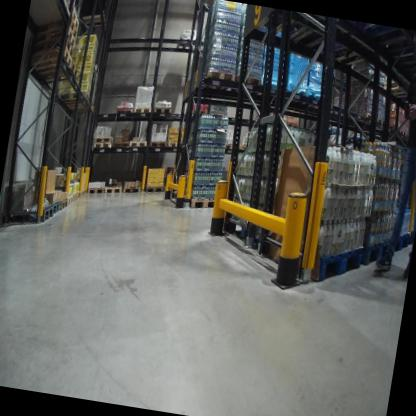pallet: (244, 222, 369, 291), (347, 227, 398, 277), (0, 196, 55, 230), (169, 183, 224, 216), (27, 11, 79, 43), (30, 19, 78, 53), (28, 44, 74, 79), (223, 207, 258, 252), (39, 56, 79, 94), (196, 63, 238, 93), (79, 5, 114, 38), (382, 73, 416, 105), (31, 31, 74, 56), (387, 226, 412, 256), (56, 86, 89, 108), (128, 135, 168, 150), (174, 32, 200, 55), (259, 74, 287, 95), (234, 68, 263, 88), (66, 96, 93, 115), (284, 81, 310, 100), (305, 87, 330, 103), (150, 103, 174, 119), (103, 180, 124, 196), (132, 103, 153, 118), (235, 140, 253, 156), (91, 138, 113, 151), (68, 4, 81, 26), (357, 109, 376, 124), (113, 104, 134, 117), (223, 135, 238, 153), (86, 183, 104, 198), (145, 181, 164, 195), (166, 136, 186, 149), (122, 183, 142, 196), (93, 133, 113, 145), (111, 138, 129, 151), (49, 199, 61, 216), (394, 123, 406, 137), (57, 196, 67, 212), (374, 115, 386, 127), (65, 193, 73, 204), (404, 131, 412, 140), (77, 189, 83, 200), (72, 191, 78, 200), (80, 188, 85, 198)
